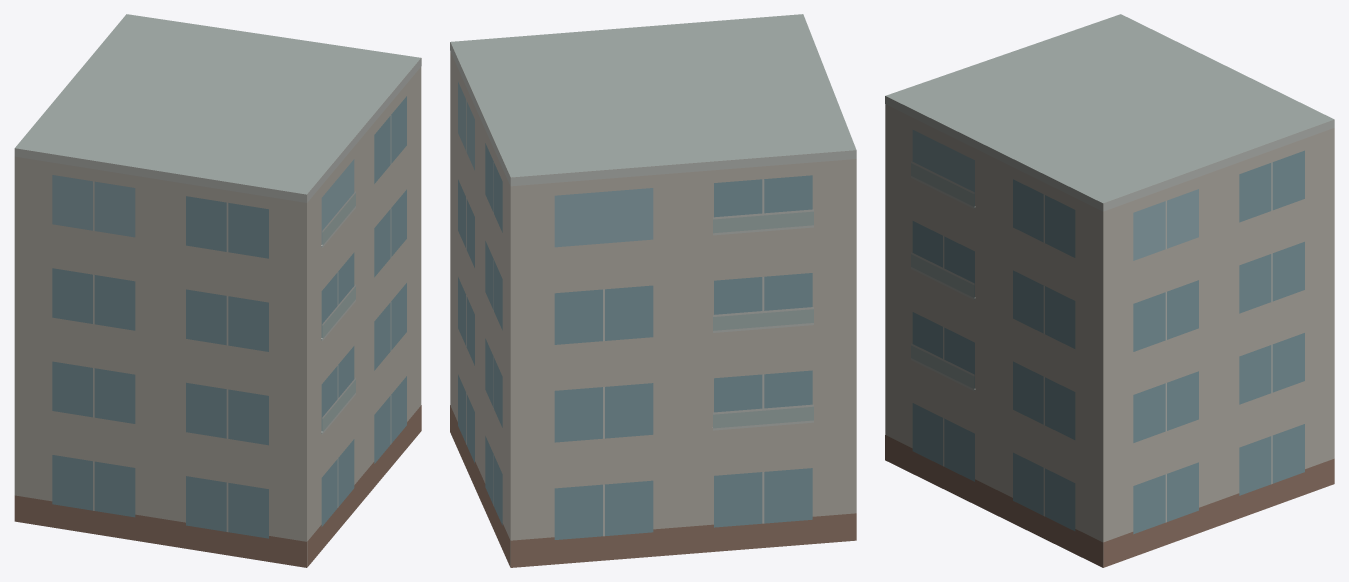
The model's file is survey-upis-32718307.glb.
3 renders of one model, left to right at view 1: azimuth 30°, elevation 25°; view 2: azimuth 150°, elevation 25°; view 3: azimuth 270°, elevation 25°, orthographic. The views are drawn at different scales.
Parts seen in each view (by area): view 1: survey-upis-32718307.tmp; view 2: survey-upis-32718307.tmp; view 3: survey-upis-32718307.tmp.
Part boxes in pixels (<box>): survey-upis-32718307.tmp: <box>14,14,421,567</box>; survey-upis-32718307.tmp: <box>450,14,856,567</box>; survey-upis-32718307.tmp: <box>885,14,1334,567</box>.
Size of the model in its own units: 12.05 by 10.8 by 12.08.
